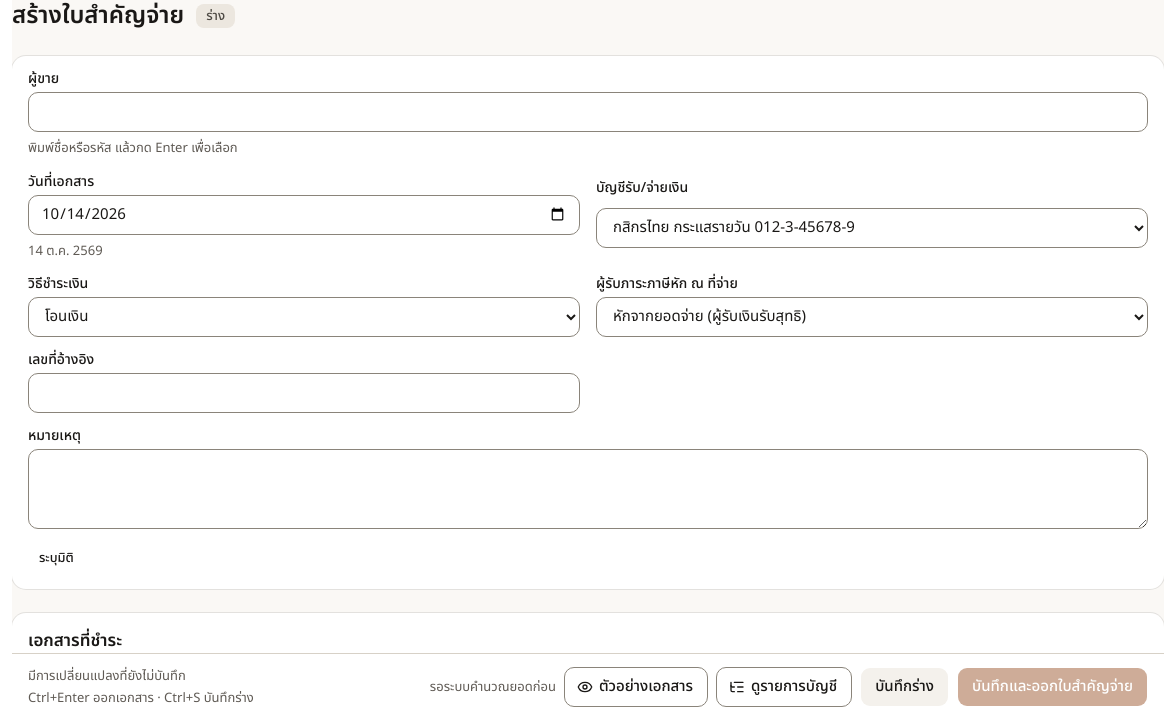
Test: PV editor: the standalone taxed line and the quick bill (D-16) › a foreign payee: the header takes gross-up every time and a service line defaults to FOR-SVC (editable)
The image size is (1176, 720).
Type "Cloudberry" into the dropdown labelled "ผู้ขาย" at (588, 112), box 28,92 -> 1148,132
Then press Enter
(page scrolled)
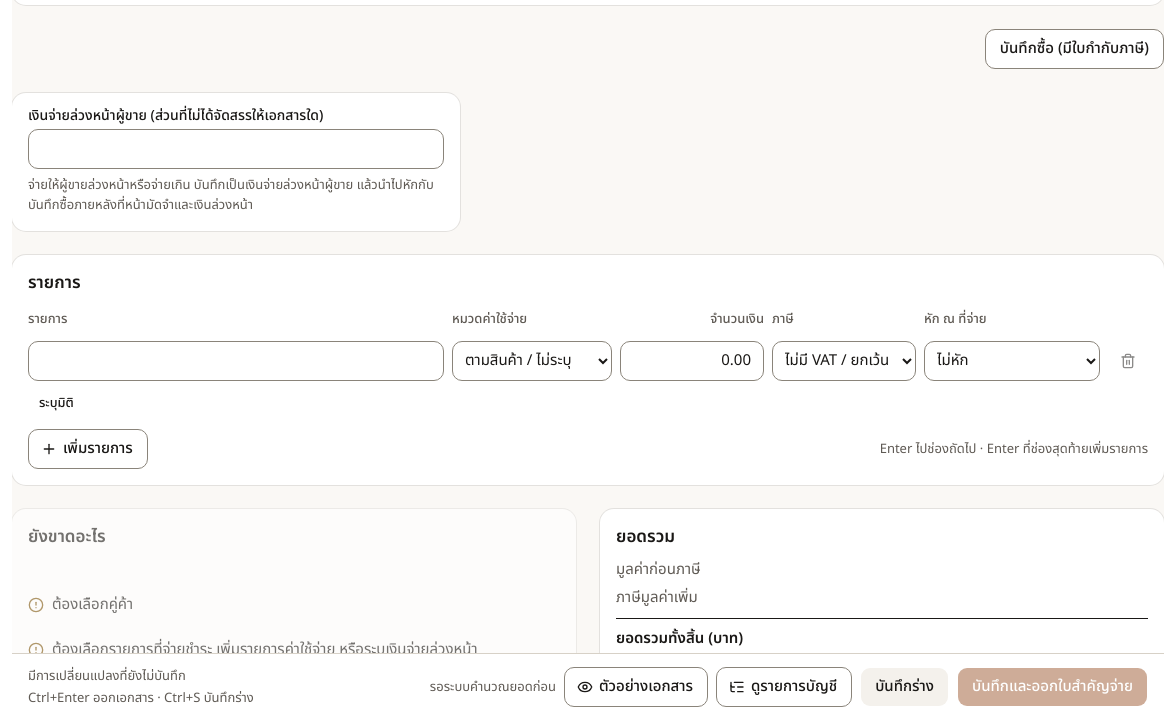
Type "ค่าซอฟต์แวร์" into the dropdown named "รายการ 1" at (236, 361), box 28,341 -> 444,381
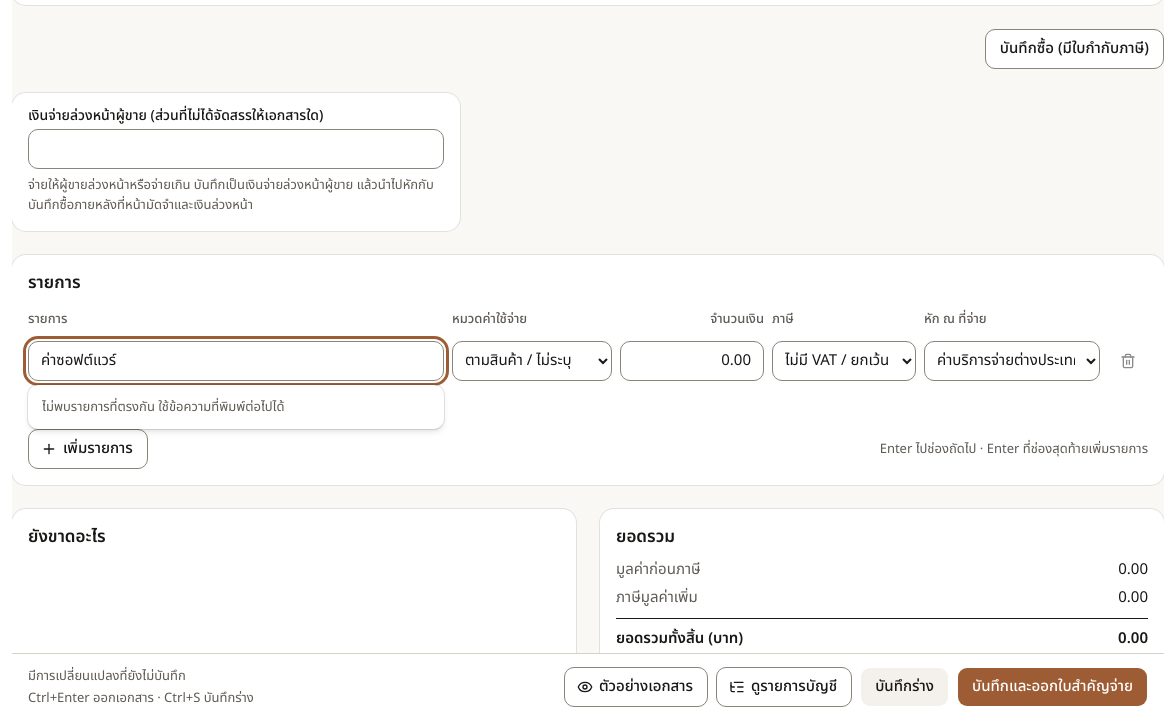
Type "10000" into the field named "จำนวนเงินรายการ 1" at (692, 361), box 620,341 -> 764,381
(page scrolled)
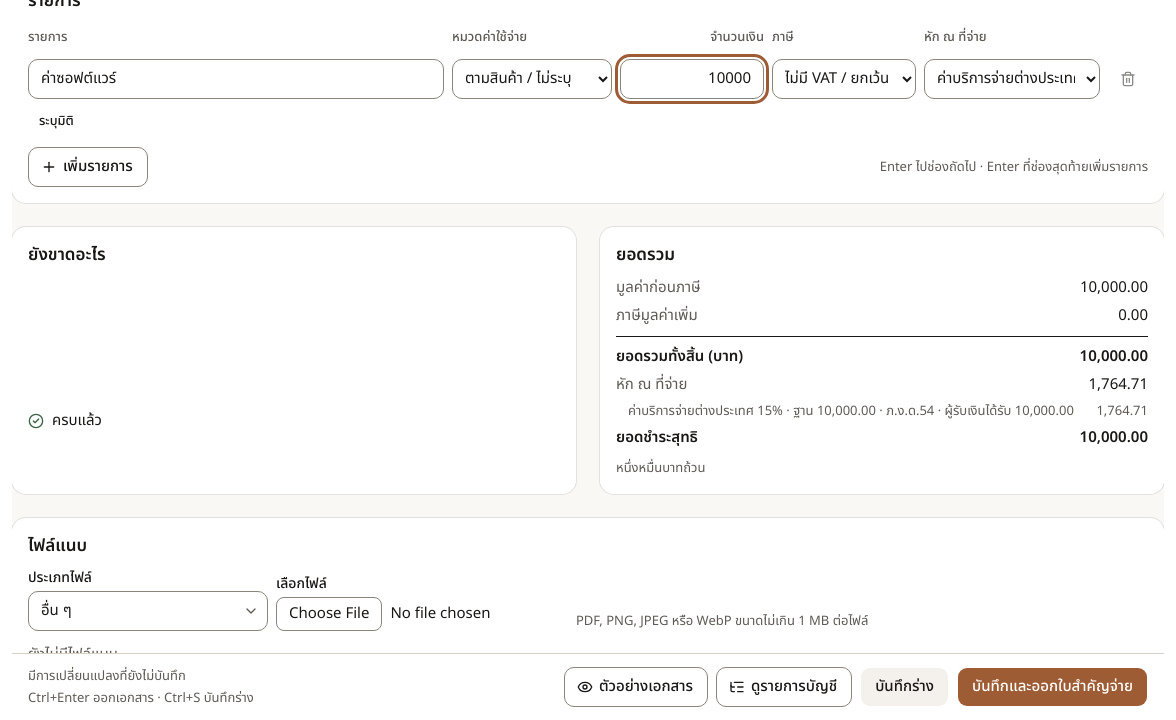
Check: the dropdown named "หัก ณ ที่จ่ายรายการ 1" shows "ค่าบริการจ่ายต่างประเทศ 15%", box 924,59 -> 1100,99
Check: the element "ยอดรวม" shows "1,764.71", box 1088,373 -> 1148,396
